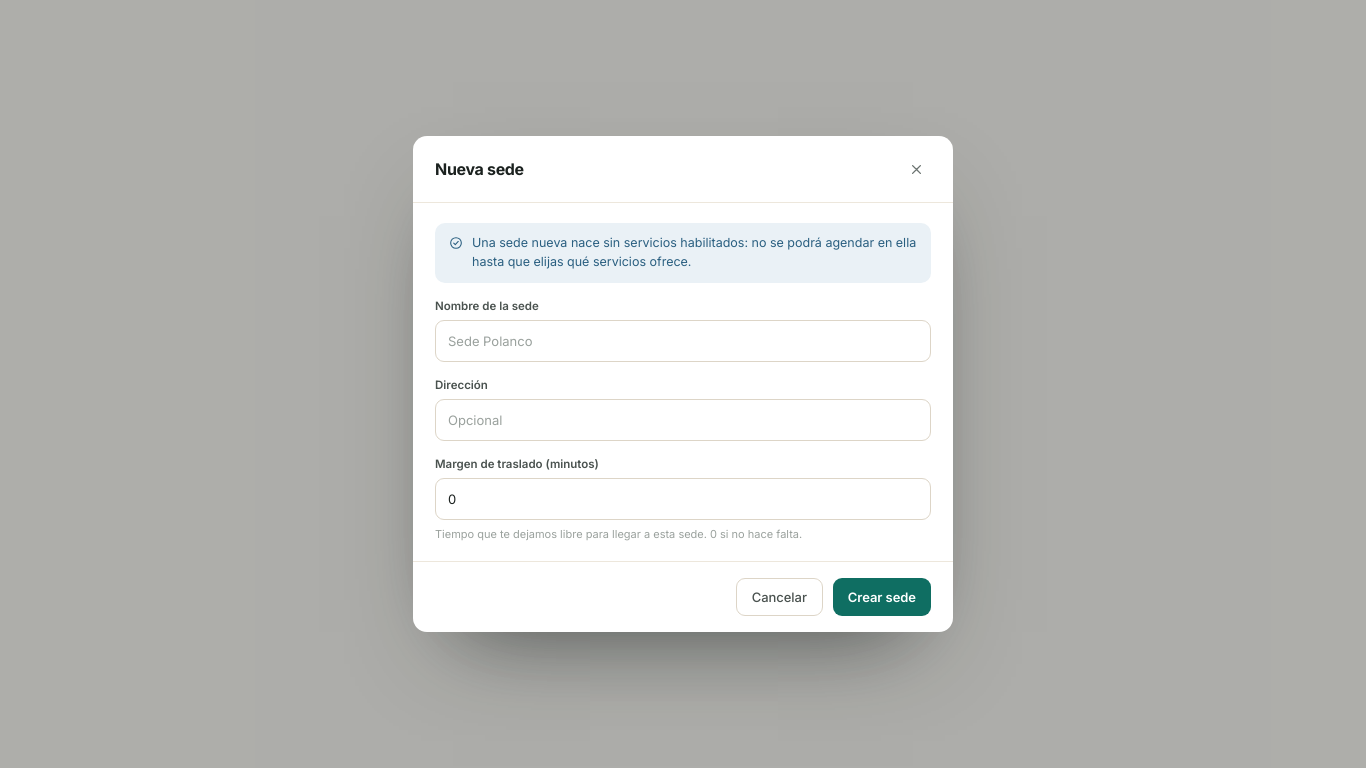
LocationFormModal in create mode › rejects a travel buffer beyond the server ceiling
The image size is (1366, 768).
Type "Sede Roma" into the field labelled "Nombre de la sede" at (683, 341), box [435,320,931,362]
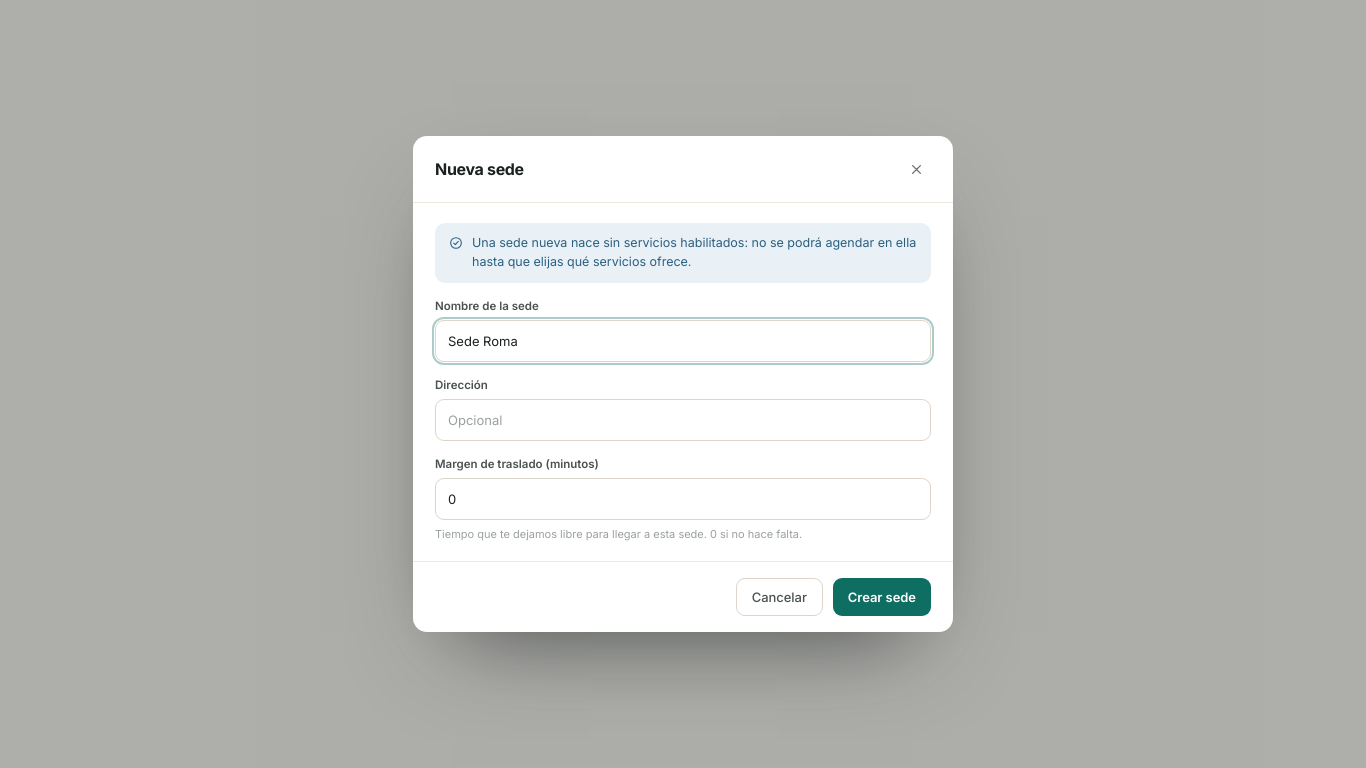
Replace the text in the number field labelled "Margen de traslado (minutos)" with "1441" at (683, 499), box [435,478,931,520]
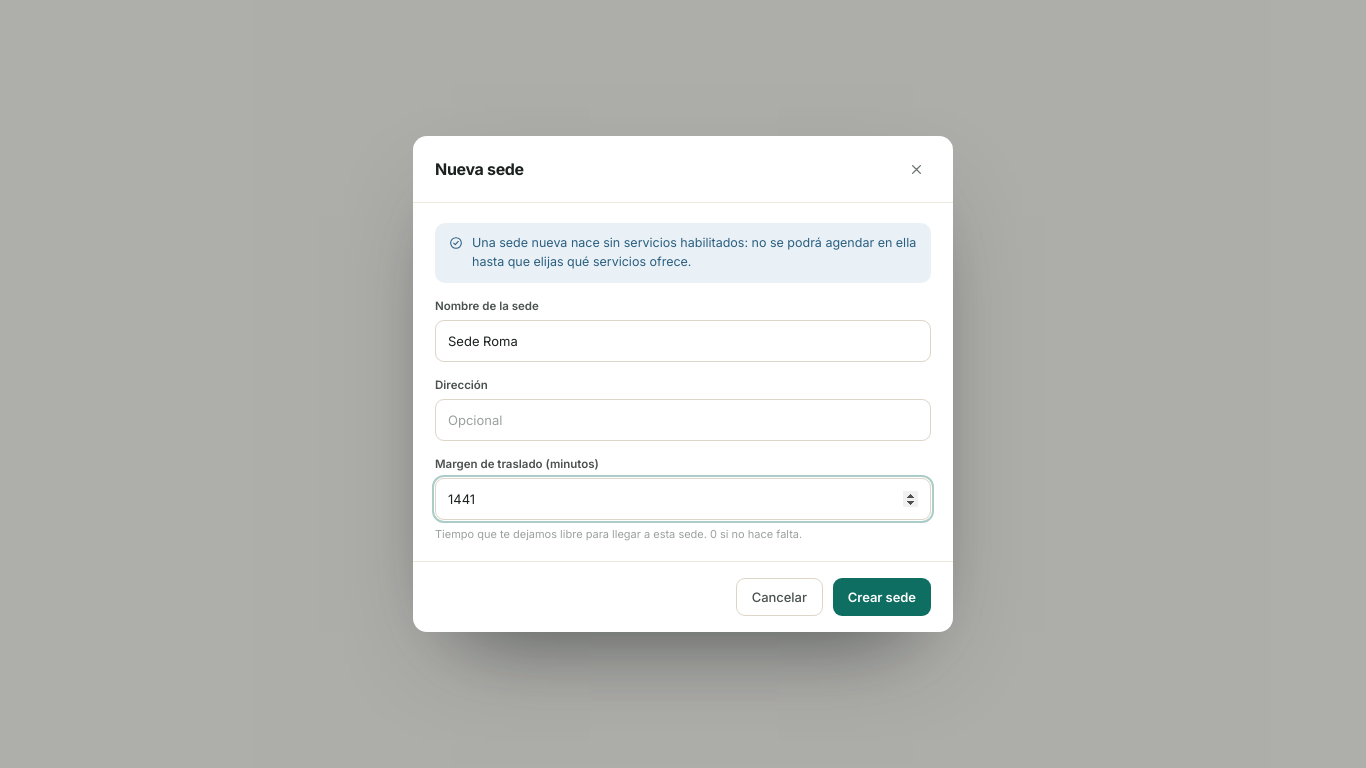
Click the button "Crear sede" at (882, 597), box [833,578,931,616]
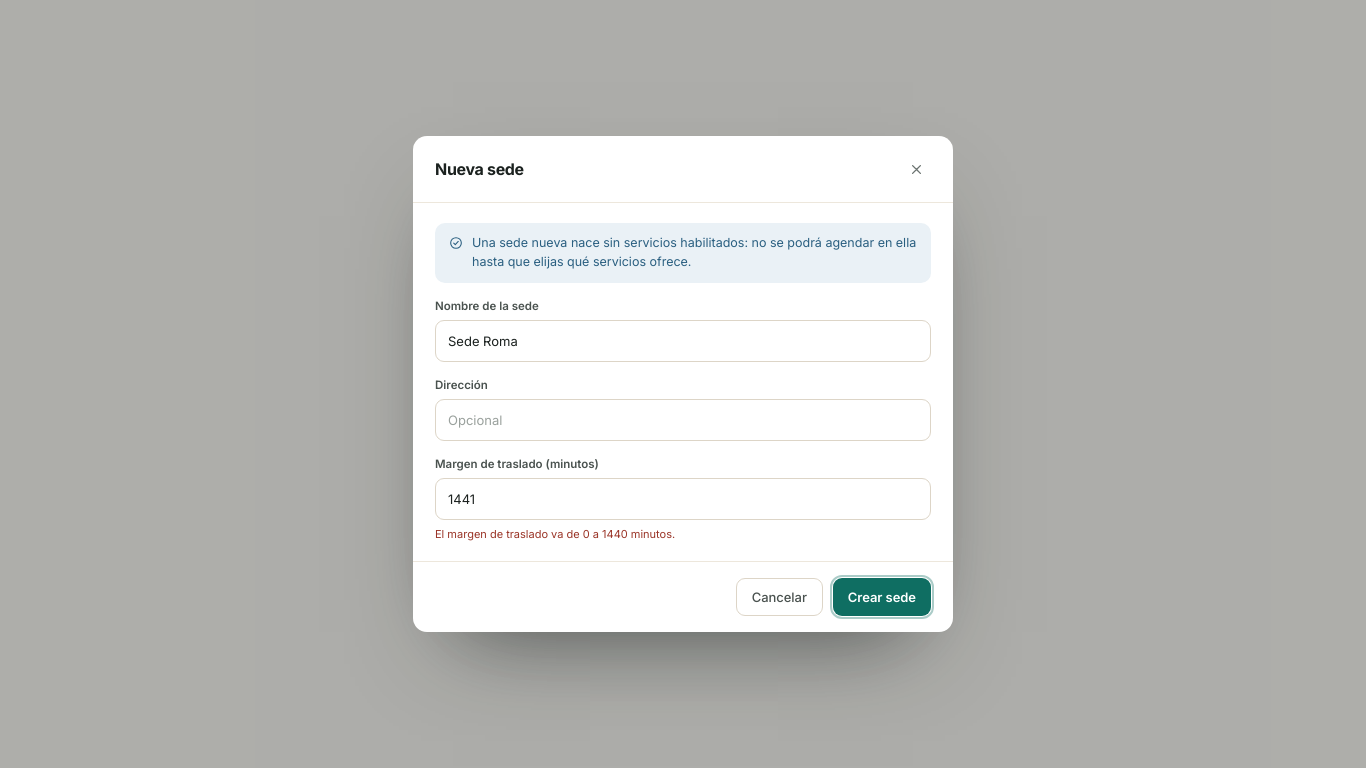
Now the text "El margen de traslado va de 0 a 1440 minutos." is shown, box [435,527,675,541]
